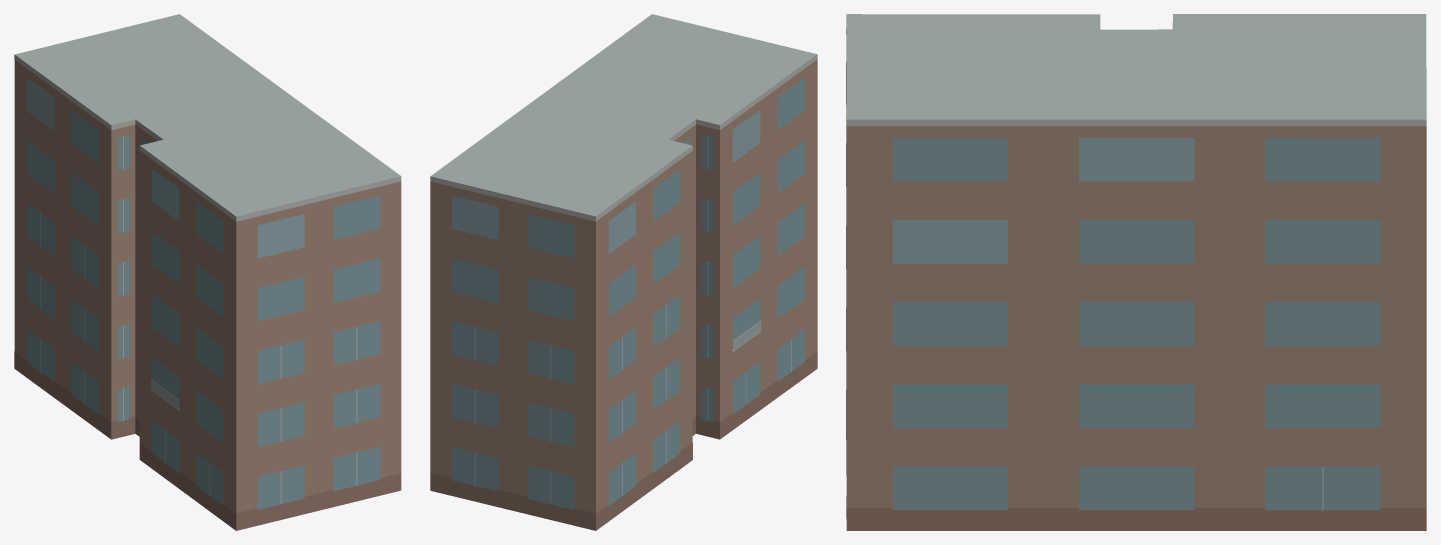
Rendered from survey-upis-32898874.glb.
3 renders of one model, left to right at view 1: azimuth 30°, elevation 25°; view 2: azimuth 150°, elevation 25°; view 3: azimuth 270°, elevation 25°, orthographic. The views are drawn at different scales.
Visible parts, largest first — view 1: survey-upis-32898874.tmp; view 2: survey-upis-32898874.tmp; view 3: survey-upis-32898874.tmp.
Boxes of the visible parts, x1=… form: survey-upis-32898874.tmp: x1=14, y1=14, x2=401, y2=530; survey-upis-32898874.tmp: x1=430, y1=14, x2=817, y2=530; survey-upis-32898874.tmp: x1=846, y1=14, x2=1426, y2=530.
Size of the model in its own units: 8.34 by 15.1 by 19.33.
